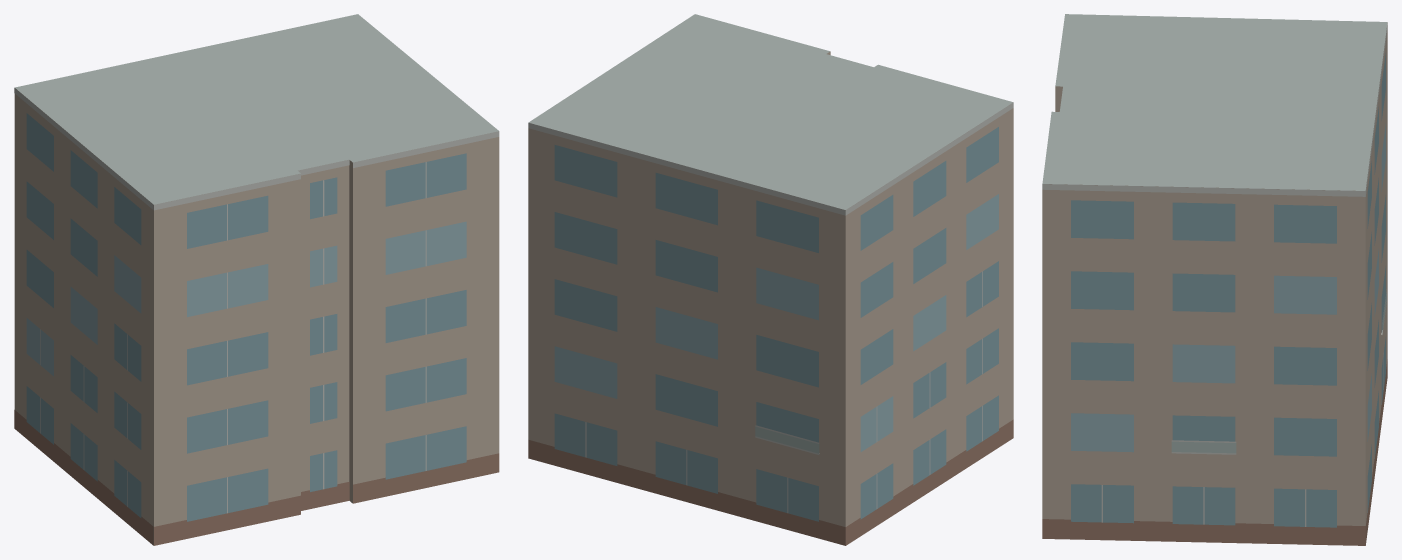
Rendered from survey-upis-32952568.glb.
The picture shows the model from 3 angles, left to right: view 1: azimuth 30°, elevation 25°; view 2: azimuth 150°, elevation 25°; view 3: azimuth 270°, elevation 25°; orthographic projection. The views are drawn at different scales.
Visible parts, largest first — view 1: survey-upis-32952568.tmp; view 2: survey-upis-32952568.tmp; view 3: survey-upis-32952568.tmp.
Part boxes in pixels (x1,y1,x2,y2): survey-upis-32952568.tmp: (14,14,499,545); survey-upis-32952568.tmp: (528,14,1013,545); survey-upis-32952568.tmp: (1042,14,1387,545).
Bounding box in the file's own units: 15.79 × 14.75 × 13.01.
